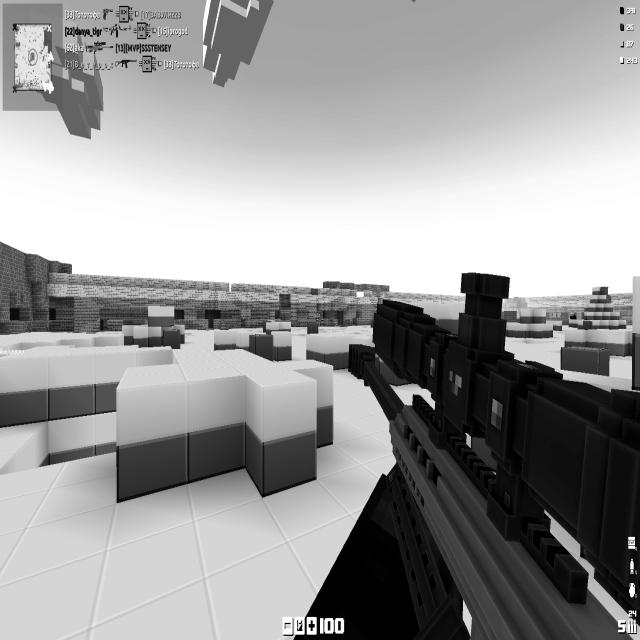Head: (570, 312, 575, 317)
Player: (570, 311, 577, 320)
